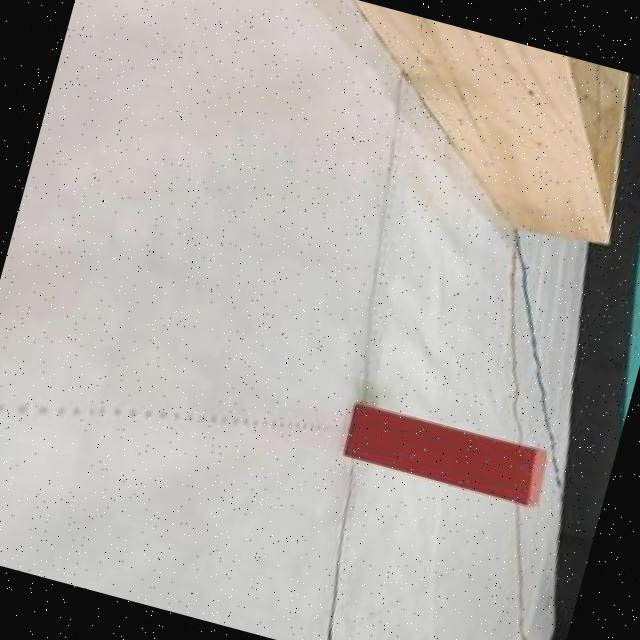redbox: (337, 397, 554, 511)
